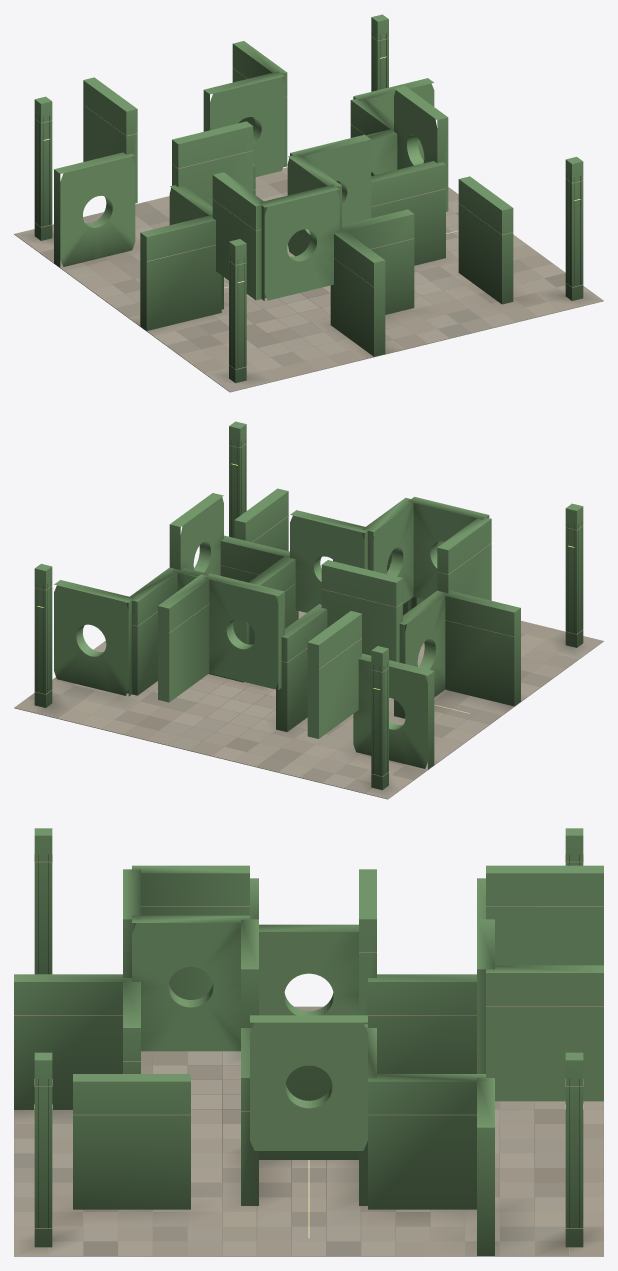
The model's file is 01_world.glb.
3 renders of one model, top to bottom at view 1: azimuth 30°, elevation 25°; view 2: azimuth 150°, elevation 25°; view 3: azimuth 270°, elevation 25°, orthographic. The views are drawn at different scales.
Parts seen in each view (by area): view 1: world_01_body_nocol, world_11_body_nocol, world_00_body_nocol, world_01_floor_noshadow_nocol, world_11_floor_noshadow_nocol, world_10_body_nocol, world_00_floor_noshadow_nocol, world_10_floor_noshadow_nocol, world_00_panel_noshadow_nocol, world_01_panel_noshadow_nocol, world_11_panel_noshadow_nocol; view 2: world_00_body_nocol, world_01_body_nocol, world_10_body_nocol, world_11_body_nocol, world_10_floor_noshadow_nocol, world_00_floor_noshadow_nocol, world_01_floor_noshadow_nocol, world_00_panel_noshadow_nocol, world_01_panel_noshadow_nocol, world_10_panel_noshadow_nocol; view 3: world_01_body_nocol, world_11_body_nocol, world_10_body_nocol, world_00_body_nocol, world_11_floor_noshadow_nocol, world_10_floor_noshadow_nocol, world_01_floor_noshadow_nocol, world_00_floor_noshadow_nocol.
Part boxes in pixels (x1,y1,x2,y2): world_01_body_nocol: (140, 154, 385, 383); world_11_body_nocol: (290, 86, 583, 314); world_00_body_nocol: (34, 71, 284, 267); world_01_floor_noshadow_nocol: (116, 281, 416, 392); world_11_floor_noshadow_nocol: (322, 224, 603, 348); world_10_body_nocol: (232, 14, 434, 175); world_00_floor_noshadow_nocol: (14, 196, 289, 312); world_10_floor_noshadow_nocol: (255, 167, 458, 256); world_00_panel_noshadow_nocol: (35, 114, 50, 226); world_01_panel_noshadow_nocol: (230, 256, 244, 368); world_11_panel_noshadow_nocol: (566, 174, 581, 286); world_00_body_nocol: (204, 560, 434, 790); world_01_body_nocol: (362, 496, 583, 718); world_10_body_nocol: (34, 563, 249, 707); world_11_body_nocol: (169, 421, 411, 644); world_10_floor_noshadow_nocol: (14, 640, 275, 755); world_00_floor_noshadow_nocol: (201, 700, 495, 799); world_01_floor_noshadow_nocol: (389, 621, 603, 724); world_00_panel_noshadow_nocol: (373, 663, 387, 775); world_01_panel_noshadow_nocol: (567, 521, 582, 633); world_10_panel_noshadow_nocol: (36, 581, 51, 693); world_01_body_nocol: (14, 828, 358, 1109); world_11_body_nocol: (34, 919, 367, 1247); world_10_body_nocol: (359, 965, 603, 1255); world_00_body_nocol: (359, 828, 603, 1073); world_11_floor_noshadow_nocol: (14, 1124, 325, 1256); world_10_floor_noshadow_nocol: (309, 1124, 603, 1256); world_01_floor_noshadow_nocol: (14, 1006, 323, 1131); world_00_floor_noshadow_nocol: (495, 1101, 603, 1131).
Size of the model in its own units: 100 by 35.12 by 100.
